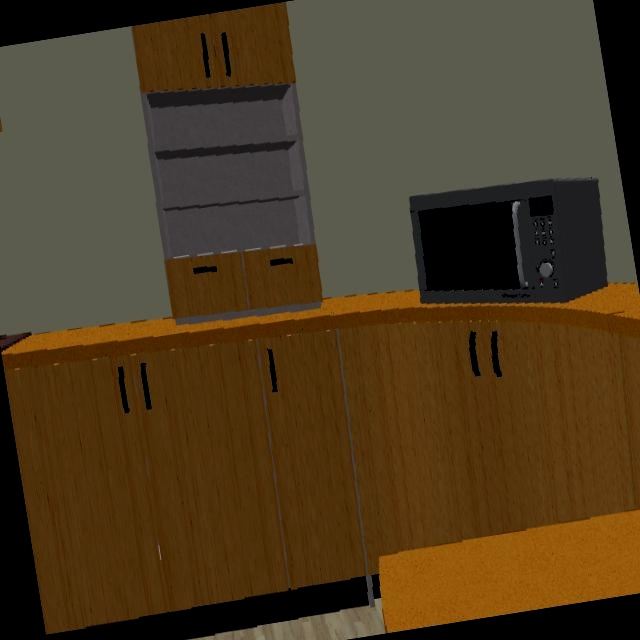cabinet: (2, 283, 640, 637), (132, 1, 298, 95), (166, 246, 324, 323)
microwave: (409, 179, 607, 306)
shelf: (144, 80, 314, 260)
table: (1, 291, 479, 372), (377, 509, 640, 634), (537, 276, 640, 322)
